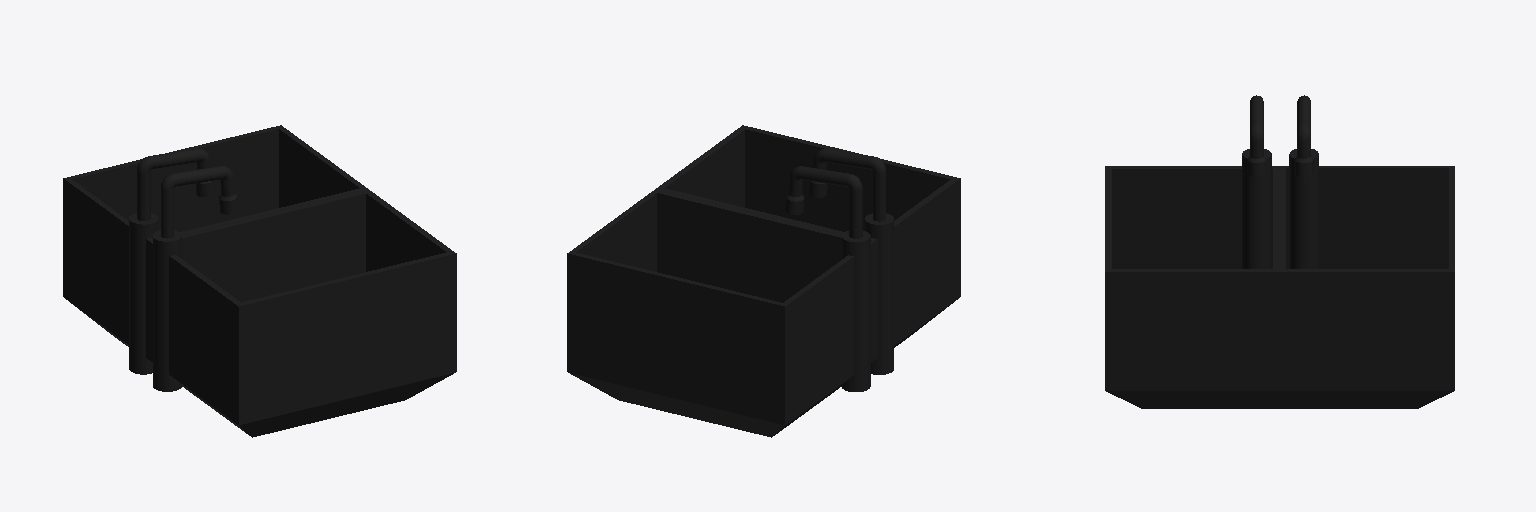
File: sink.obj
3 renders of one model, left to right at view 1: azimuth 30°, elevation 25°; view 2: azimuth 150°, elevation 25°; view 3: azimuth 270°, elevation 25°, orthographic.
Parts seen in each view (by area): view 1: sink_Cube.006; view 2: sink_Cube.006; view 3: sink_Cube.006.
Part boxes in pixels (left/top/right/bottom): sink_Cube.006: left=63, top=125, right=456, bottom=437; sink_Cube.006: left=567, top=125, right=960, bottom=437; sink_Cube.006: left=1105, top=95, right=1454, bottom=408.
Bounding box in the file's own units: 1.95 × 1.87 × 2.62.